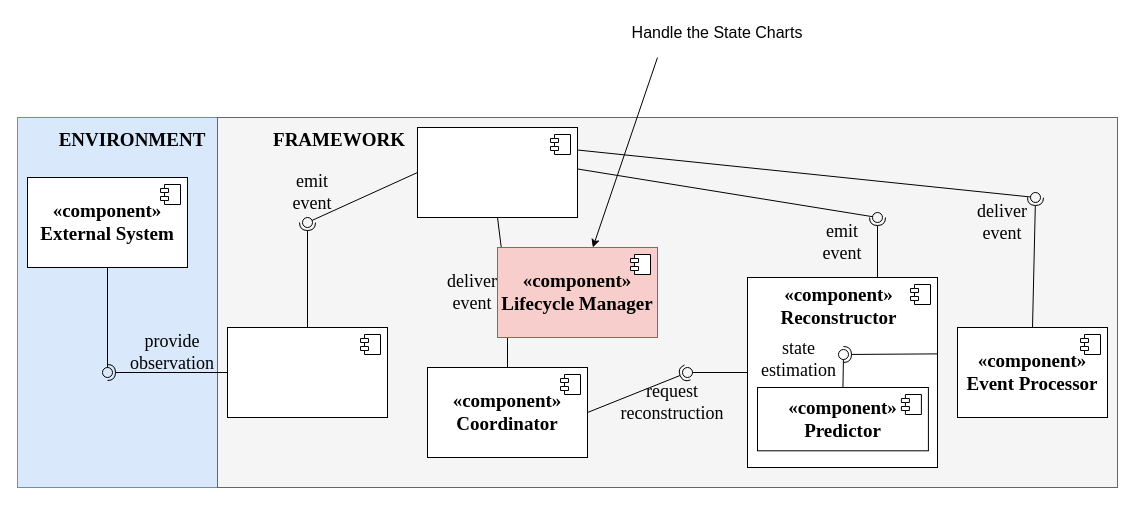
The diagram is 1135 pixels wide and 505 high, and some of its shapes have lost their labels. Each missing label, with the centre of its shape:
«component» Event Source: the point at 307,372
«component» Event Stream: the point at 497,172
